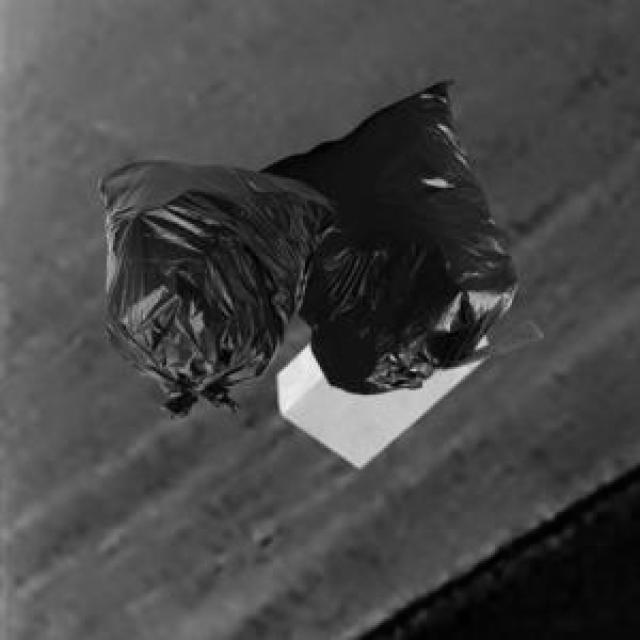miscellaneous trash: (256, 77, 538, 390), (96, 156, 335, 414)
paper: (273, 331, 484, 463)
